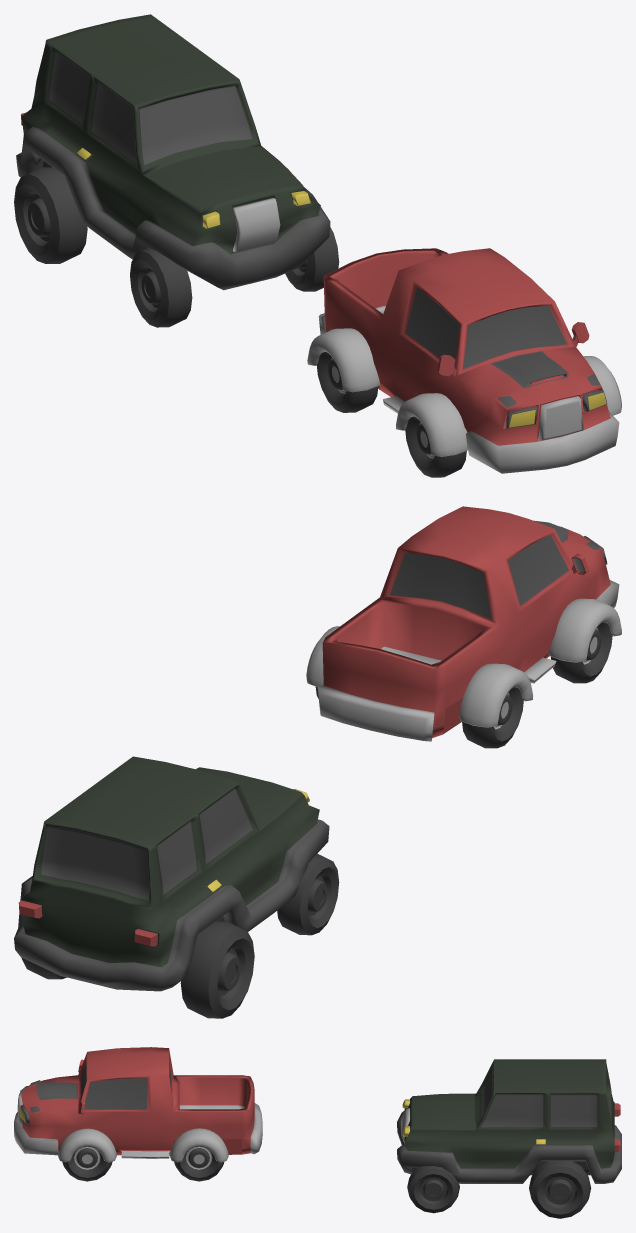
Rendered from vehicle.fbx.
3 renders of one model, top to bottom at view 1: azimuth 30°, elevation 25°; view 2: azimuth 150°, elevation 25°; view 3: azimuth 270°, elevation 25°, orthographic. The views are drawn at different scales.
Parts seen in each view (by area): view 1: vehicle3, vehicle1; view 2: vehicle3, vehicle1; view 3: vehicle3, vehicle1.
Part boxes in pixels (bbox=[...]): vehicle3: bbox=[14, 14, 339, 327]; vehicle1: bbox=[307, 248, 621, 477]; vehicle3: bbox=[14, 756, 339, 1018]; vehicle1: bbox=[306, 506, 621, 748]; vehicle3: bbox=[397, 1059, 621, 1218]; vehicle1: bbox=[14, 1047, 262, 1181].
Bounding box in the file's own units: 1.65 × 1.7 × 6.95.
